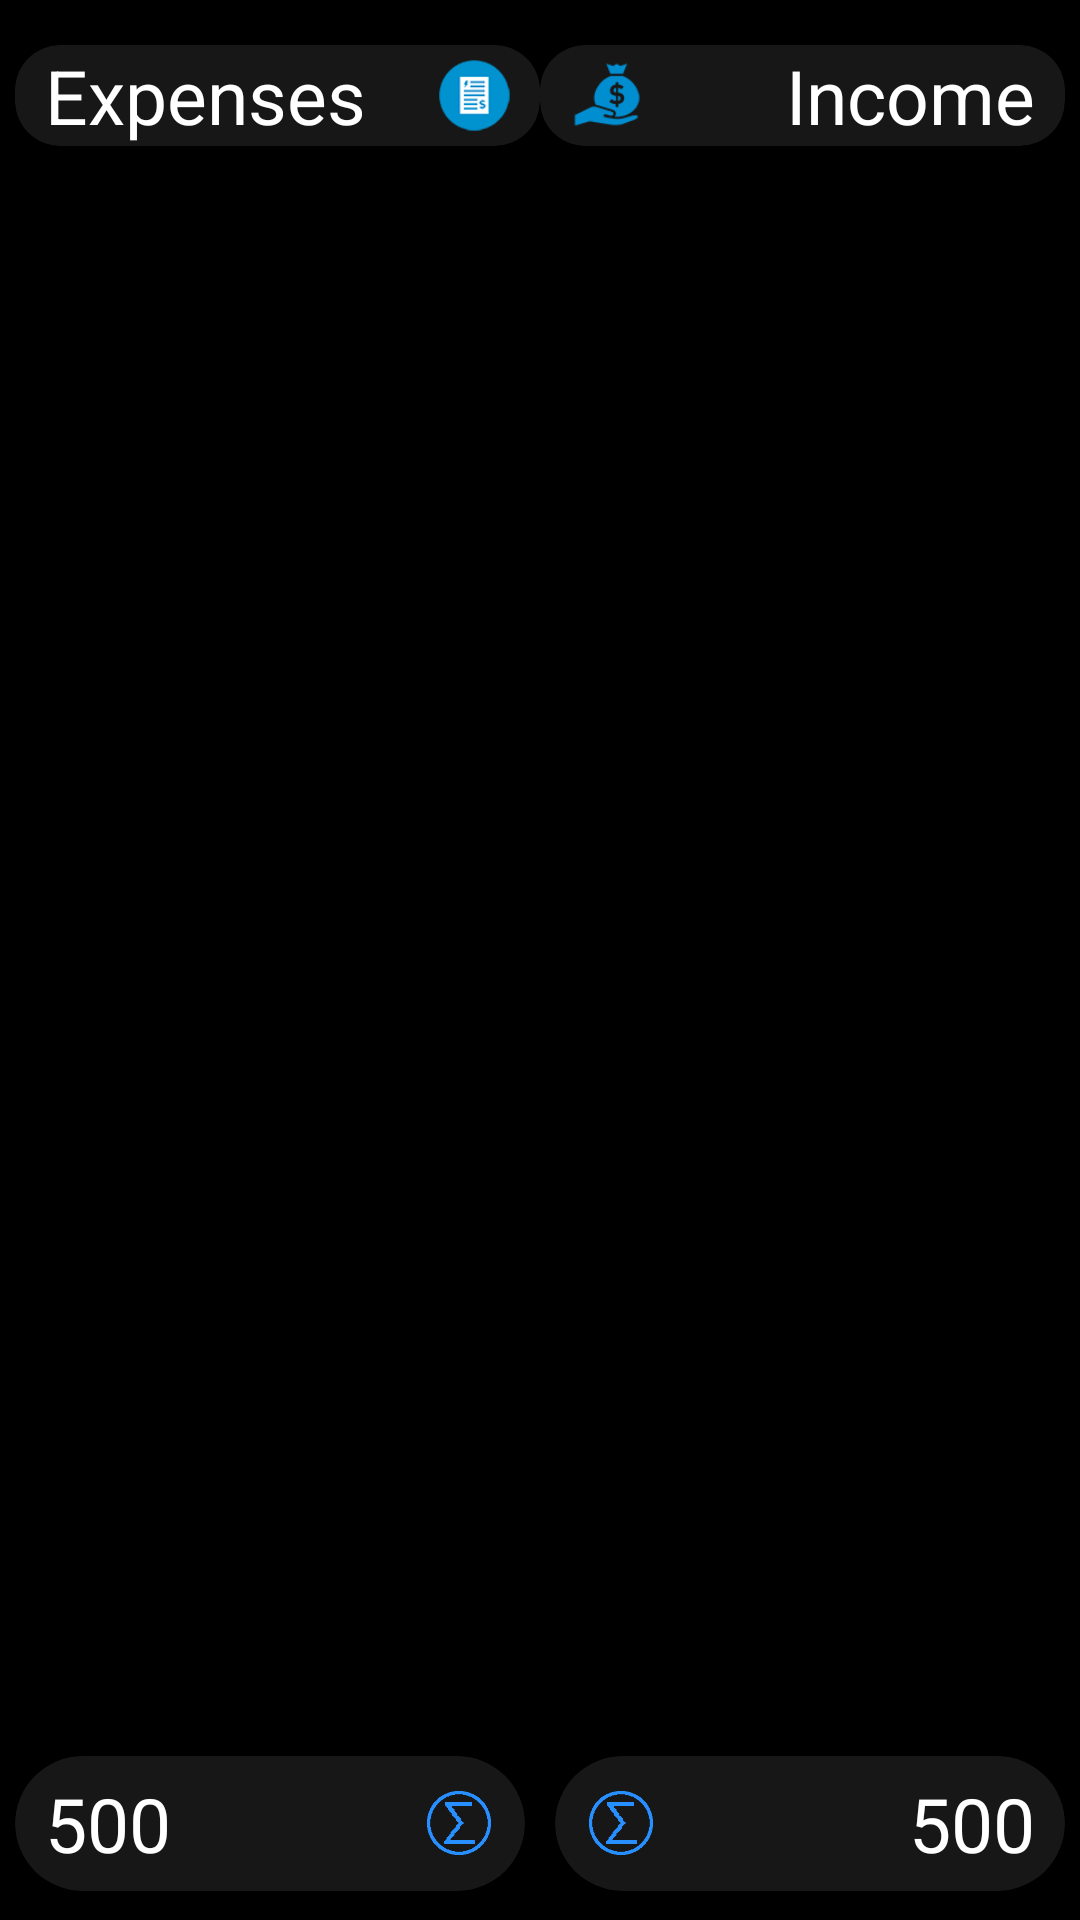

Point at icon controls on the screen. Image size 1080×1920, points as point (x, y).
bill: point (474, 95)
sum low: point (459, 1823), point (621, 1823)
